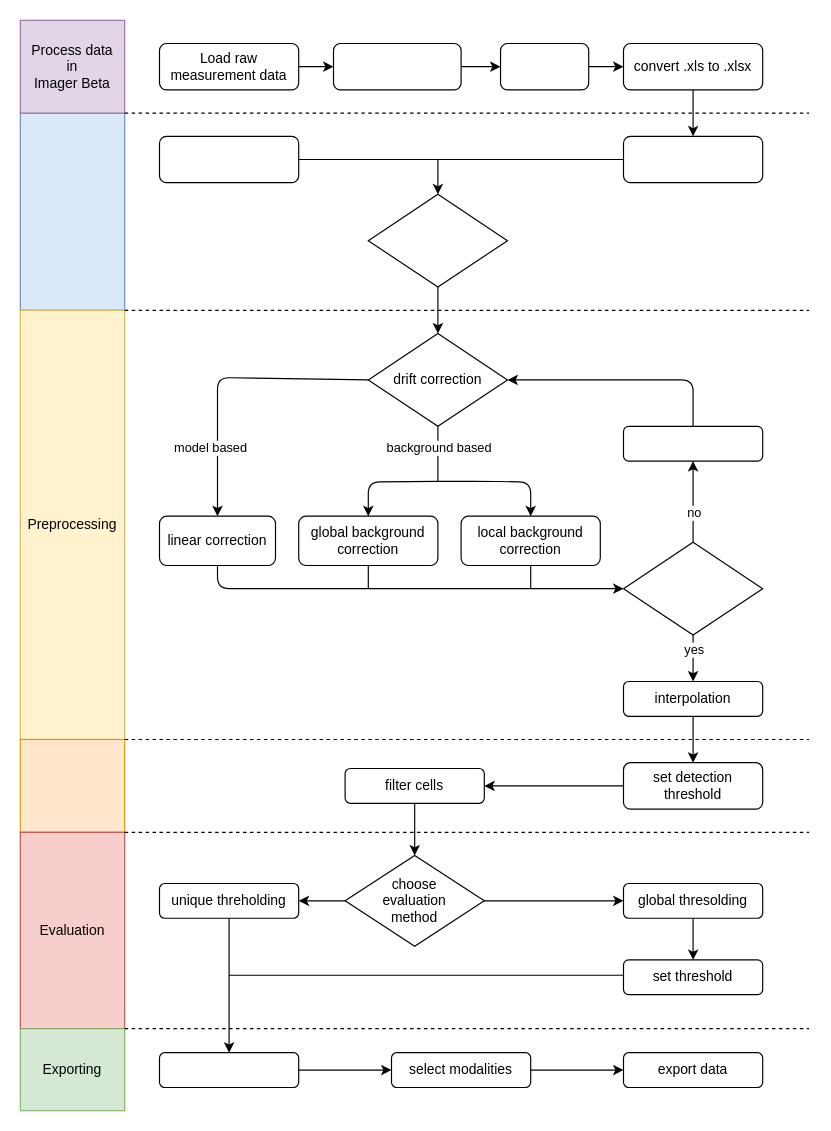
Image size: 831x1131. Some labels were removed from this diagram. The shapes that lost their labels are listed below. From the top down, each one's centre as x and y in pixels, then its label:
At point 396,66: "Select rectangular area".
At point 544,66: "export .xls".
At point 228,159: "set pixel size".
At point 692,159: "Choose .xlsx measurement".
At point 72,211: "Load data".
At point 437,240: "WS or WL".
At point 692,443: "reset correction".
At point 692,588: "corrected signal seems good?".
At point 72,785: "Detection".
At point 228,1070: "select cells".
